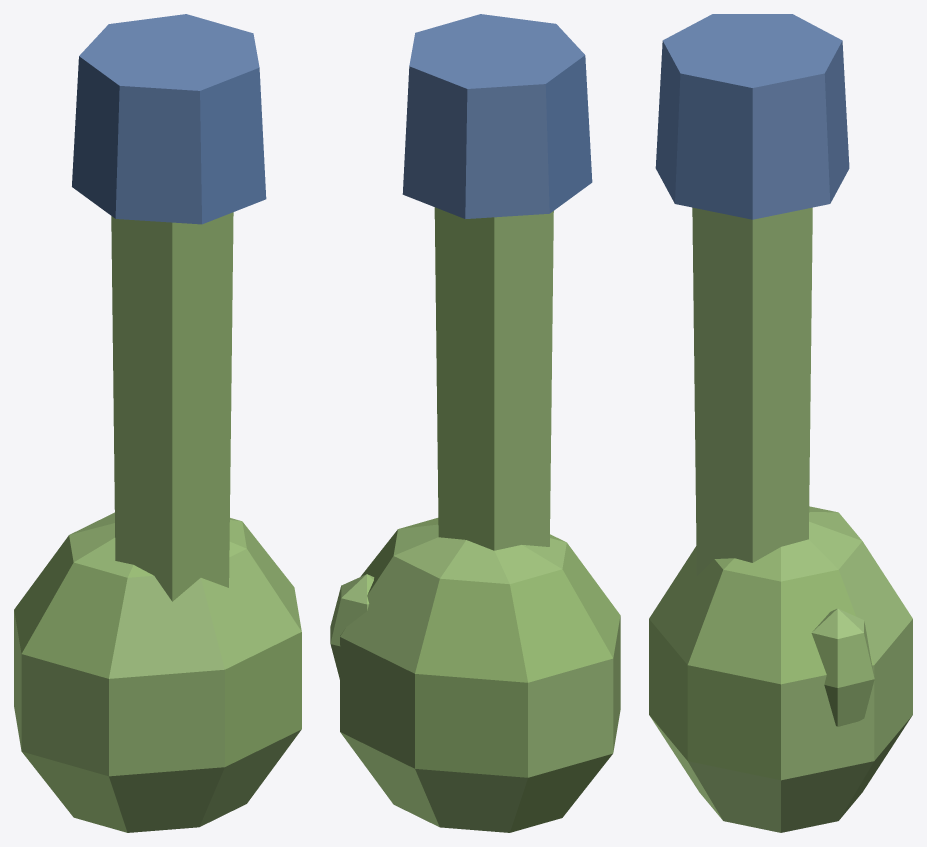
The model's file is arm_l.glb.
3 views of the same model, side by side, from view 1: azimuth 30°, elevation 25°; view 2: azimuth 150°, elevation 25°; view 3: azimuth 270°, elevation 25° (orthographic). The views are drawn at different scales.
Visible parts, largest first — view 1: arm_l2; view 2: arm_l2; view 3: arm_l2.
Boxes of the visible parts, x1,y1,x2,y2 form: arm_l2: (14,14,301,832); arm_l2: (330,14,620,832); arm_l2: (649,14,912,832).
Size of the model in its own units: 0.2187 by 0.6007 by 0.1859.
